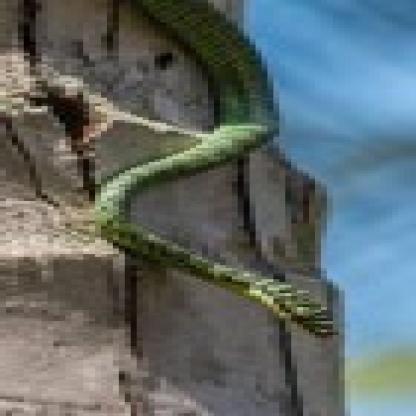snakes: (80, 1, 356, 341)
